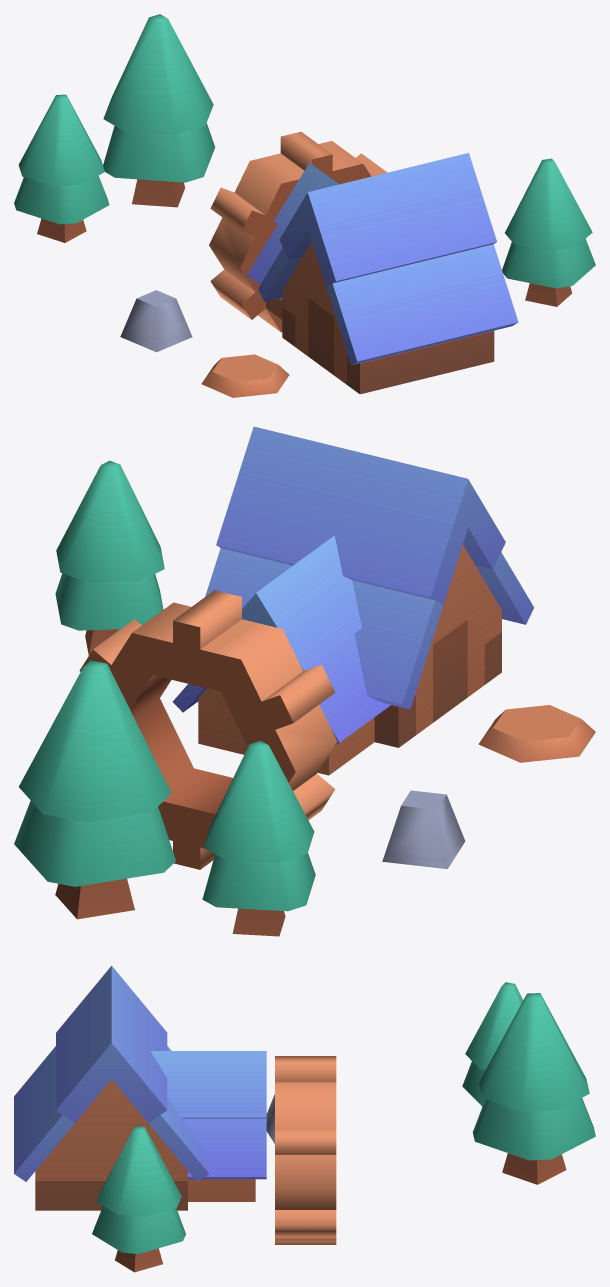
File: watermill.fbx
3 views of the same model, one above another, from view 1: azimuth 30°, elevation 25°; view 2: azimuth 150°, elevation 25°; view 3: azimuth 270°, elevation 25° (orthographic). The views are drawn at different scales.
Visible parts, largest first — view 1: building_watermill.001, rotate_z.001; view 2: building_watermill.001, rotate_z.001; view 3: building_watermill.001, rotate_z.001.
Part boxes in pixels (left/top/right/bottom): building_watermill.001: left=14, top=14, right=595, bottom=397; rotate_z.001: left=209, top=131, right=387, bottom=332; building_watermill.001: left=14, top=426, right=595, bottom=936; rotate_z.001: left=79, top=590, right=337, bottom=869; building_watermill.001: left=14, top=965, right=595, bottom=1272; rotate_z.001: left=275, top=1056, right=336, bottom=1244.
Size of the model in its own units: 73.41 by 41.67 by 96.08.
